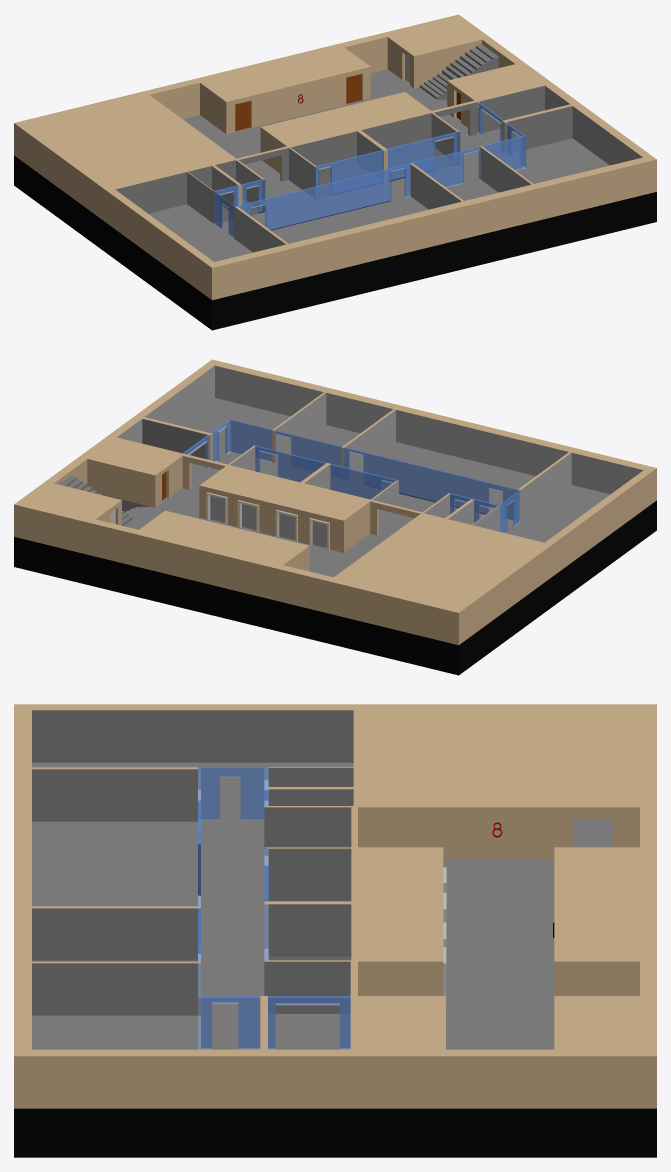
The model's file is 8F-coloredNhan.gltf.
3 views of the same model, one above another, from view 1: azimuth 30°, elevation 25°; view 2: azimuth 150°, elevation 25°; view 3: azimuth 270°, elevation 25° (orthographic). The views are drawn at different scales.
Visible parts, largest first — view 1: root; view 2: root; view 3: root.
Part boxes in pixels (bbox=[...]): root: bbox=[14, 14, 656, 330]; root: bbox=[14, 359, 656, 675]; root: bbox=[14, 704, 656, 1157].
Size of the model in its own units: 40.69 by 5.46 by 31.39.
